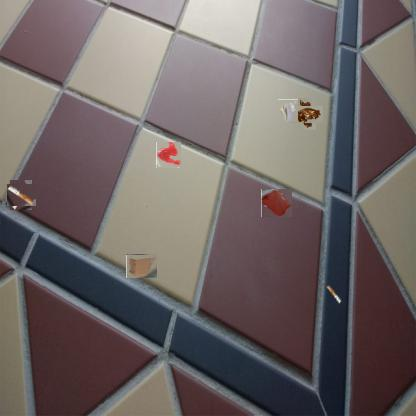dirty: (126, 254, 157, 278), (8, 182, 34, 209), (294, 101, 320, 127), (278, 99, 298, 122), (326, 283, 342, 305)
liquid: (261, 189, 292, 217), (156, 143, 181, 168)
